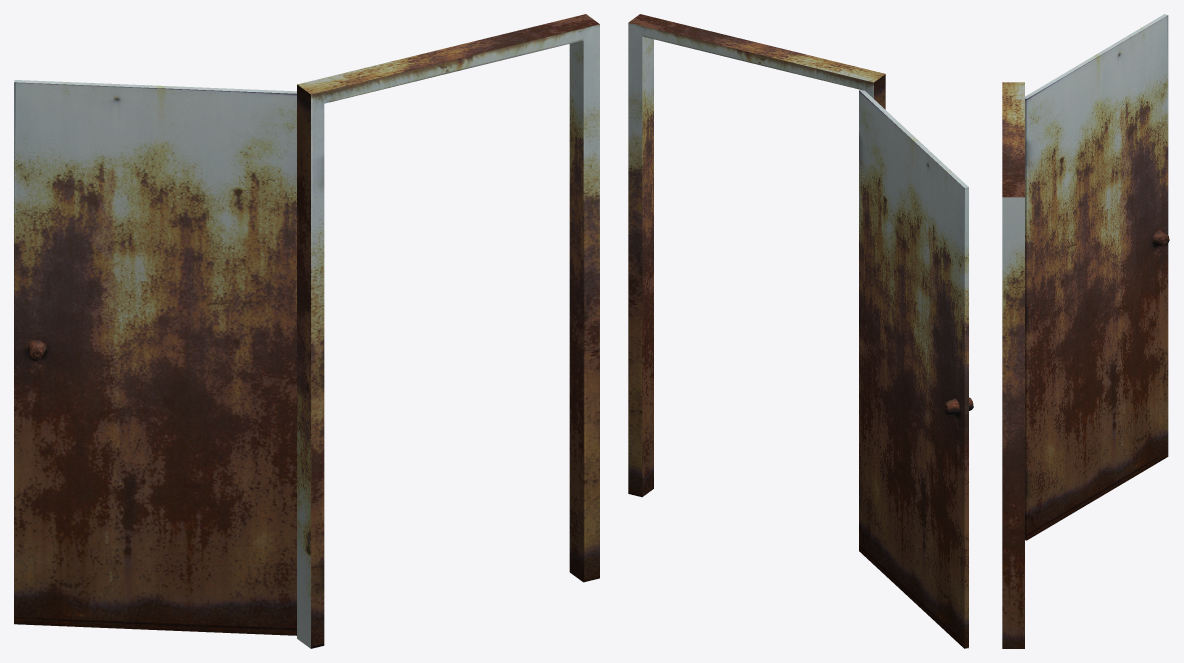
Rendered from door01.fbx.
3 renders of one model, left to right at view 1: azimuth 30°, elevation 25°; view 2: azimuth 150°, elevation 25°; view 3: azimuth 270°, elevation 25°, orthographic. The views are drawn at different scales.
Visible parts, largest first — view 1: door01; view 2: door01; view 3: door01.
Boxes of the visible parts, x1=… form: door01: x1=14, y1=14, x2=599, y2=648; door01: x1=628, y1=14, x2=973, y2=648; door01: x1=1002, y1=14, x2=1169, y2=648.
Size of the model in its own units: 202 by 220 by 73.86.
